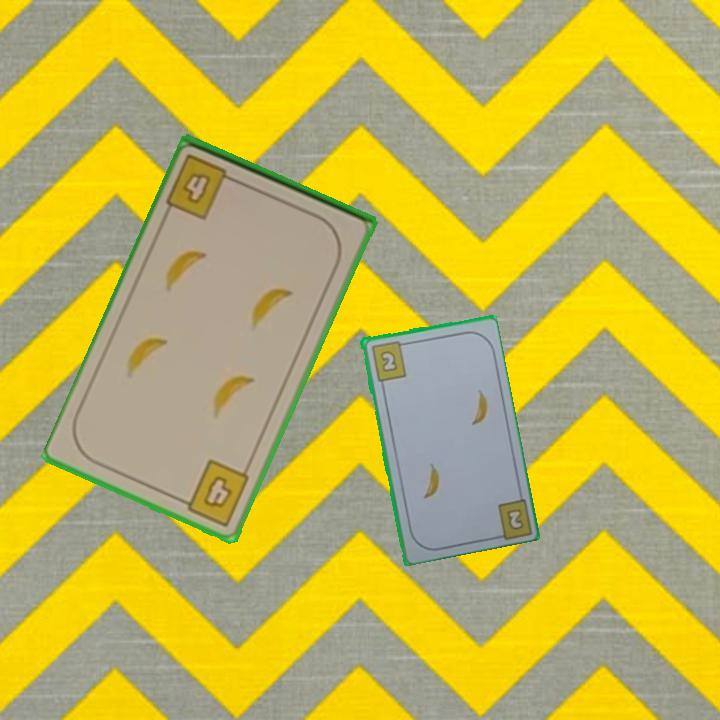2b: (367, 337, 409, 384), (503, 505, 526, 533)
4b: (175, 455, 253, 530), (163, 150, 242, 223)
